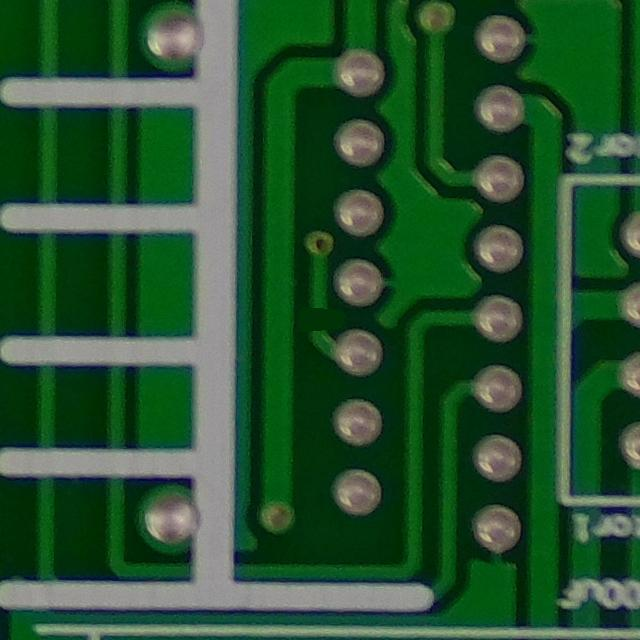open_circuit: (301, 297, 340, 343)
